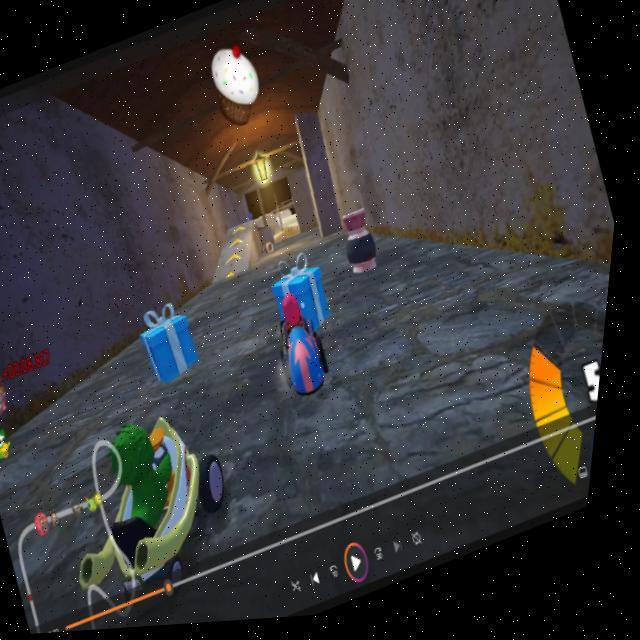bonus: (128, 288, 229, 402)
enemy_kart: (59, 384, 266, 603)
power_up: (232, 230, 257, 259), (229, 253, 249, 269)
